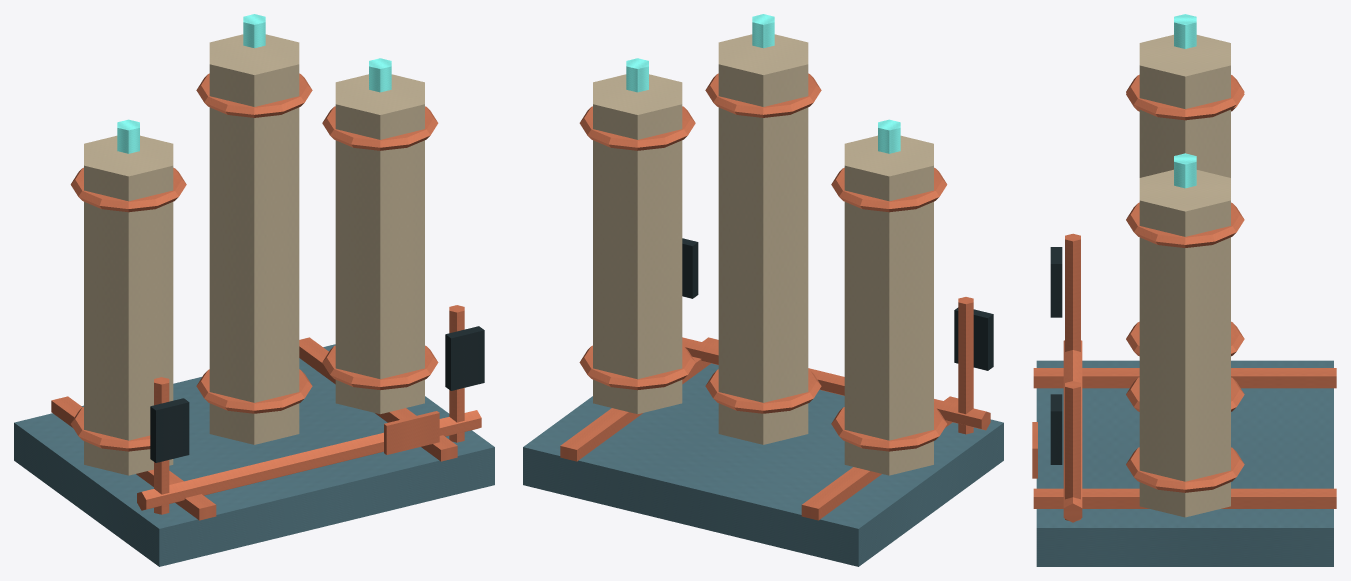
Rendered from atlas100-s050-a02.lod1.glb.
The picture shows the model from 3 angles, left to right: view 1: azimuth 30°, elevation 25°; view 2: azimuth 150°, elevation 25°; view 3: azimuth 270°, elevation 25°; orthographic projection. The views are drawn at different scales.
Visible parts, largest first — view 1: atlas100-s050-a02:part-000, atlas100-s050-a02:part-007, atlas100-s050-a02:part-011, atlas100-s050-a02:part-003, atlas100-s050-a02:part-019, atlas100-s050-a02:part-016, atlas100-s050-a02:part-018, atlas100-s050-a02:part-020, atlas100-s050-a02:part-008, atlas100-s050-a02:part-013, atlas100-s050-a02:part-005, atlas100-s050-a02:part-012 (+9 smaller); view 2: atlas100-s050-a02:part-000, atlas100-s050-a02:part-007, atlas100-s050-a02:part-003, atlas100-s050-a02:part-011, atlas100-s050-a02:part-002, atlas100-s050-a02:part-019, atlas100-s050-a02:part-015, atlas100-s050-a02:part-001, atlas100-s050-a02:part-008, atlas100-s050-a02:part-013, atlas100-s050-a02:part-005, atlas100-s050-a02:part-012 (+7 smaller); view 3: atlas100-s050-a02:part-000, atlas100-s050-a02:part-011, atlas100-s050-a02:part-007, atlas100-s050-a02:part-002, atlas100-s050-a02:part-001, atlas100-s050-a02:part-017, atlas100-s050-a02:part-015, atlas100-s050-a02:part-012, atlas100-s050-a02:part-009, atlas100-s050-a02:part-013, atlas100-s050-a02:part-019, atlas100-s050-a02:part-016 (+5 smaller).
Boxes of the visible parts, <box> form: atlas100-s050-a02:part-000: <box>14,344,494,566</box>; atlas100-s050-a02:part-007: <box>209,34,299,444</box>; atlas100-s050-a02:part-011: <box>335,74,424,414</box>; atlas100-s050-a02:part-003: <box>84,135,173,475</box>; atlas100-s050-a02:part-019: <box>137,410,481,510</box>; atlas100-s050-a02:part-016: <box>150,398,189,462</box>; atlas100-s050-a02:part-018: <box>445,326,484,390</box>; atlas100-s050-a02:part-020: <box>384,411,439,454</box>; atlas100-s050-a02:part-008: <box>196,369,312,413</box>; atlas100-s050-a02:part-013: <box>322,106,438,150</box>; atlas100-s050-a02:part-005: <box>70,167,186,212</box>; atlas100-s050-a02:part-012: <box>322,345,438,390</box>; atlas100-s050-a02:part-000: <box>523,363,1003,566</box>; atlas100-s050-a02:part-007: <box>718,34,808,444</box>; atlas100-s050-a02:part-003: <box>844,135,933,475</box>; atlas100-s050-a02:part-011: <box>593,74,682,414</box>; atlas100-s050-a02:part-002: <box>560,337,718,461</box>; atlas100-s050-a02:part-019: <box>682,337,990,430</box>; atlas100-s050-a02:part-015: <box>958,297,973,434</box>; atlas100-s050-a02:part-001: <box>801,396,958,520</box>; atlas100-s050-a02:part-008: <box>705,369,821,413</box>; atlas100-s050-a02:part-013: <box>579,106,695,150</box>; atlas100-s050-a02:part-005: <box>831,167,947,212</box>; atlas100-s050-a02:part-012: <box>579,345,695,390</box>; atlas100-s050-a02:part-000: <box>1036,360,1333,566</box>; atlas100-s050-a02:part-011: <box>1139,169,1230,517</box>; atlas100-s050-a02:part-007: <box>1139,34,1230,177</box>; atlas100-s050-a02:part-002: <box>1033,488,1336,508</box>; atlas100-s050-a02:part-001: <box>1033,368,1336,388</box>; atlas100-s050-a02:part-017: <box>1065,381,1080,520</box>; atlas100-s050-a02:part-015: <box>1065,233,1080,351</box>; atlas100-s050-a02:part-012: <box>1126,447,1244,492</box>; atlas100-s050-a02:part-009: <box>1126,74,1244,120</box>; atlas100-s050-a02:part-013: <box>1126,202,1244,247</box>; atlas100-s050-a02:part-019: <box>1063,340,1082,522</box>; atlas100-s050-a02:part-016: <box>1050,247,1062,317</box>.
Bounding box in the file's own units: 2.52 × 3.1 × 1.85.
Materials: 5 (5 with a texture image).
